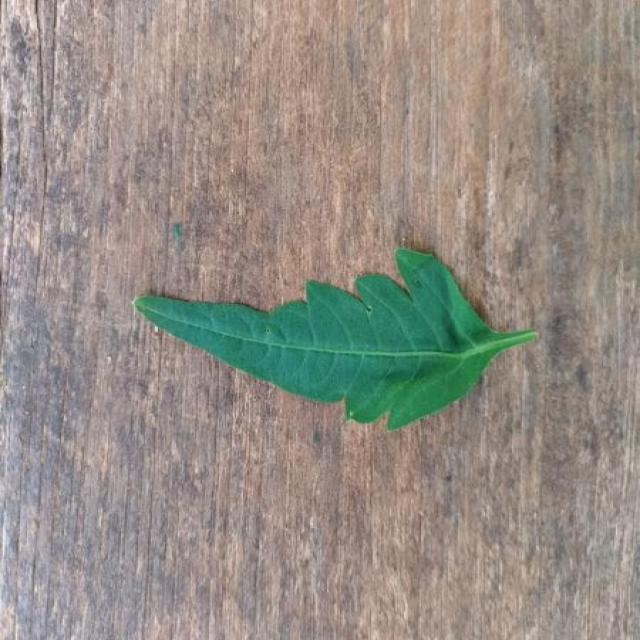balloon_Vine: (135, 248, 535, 429)
